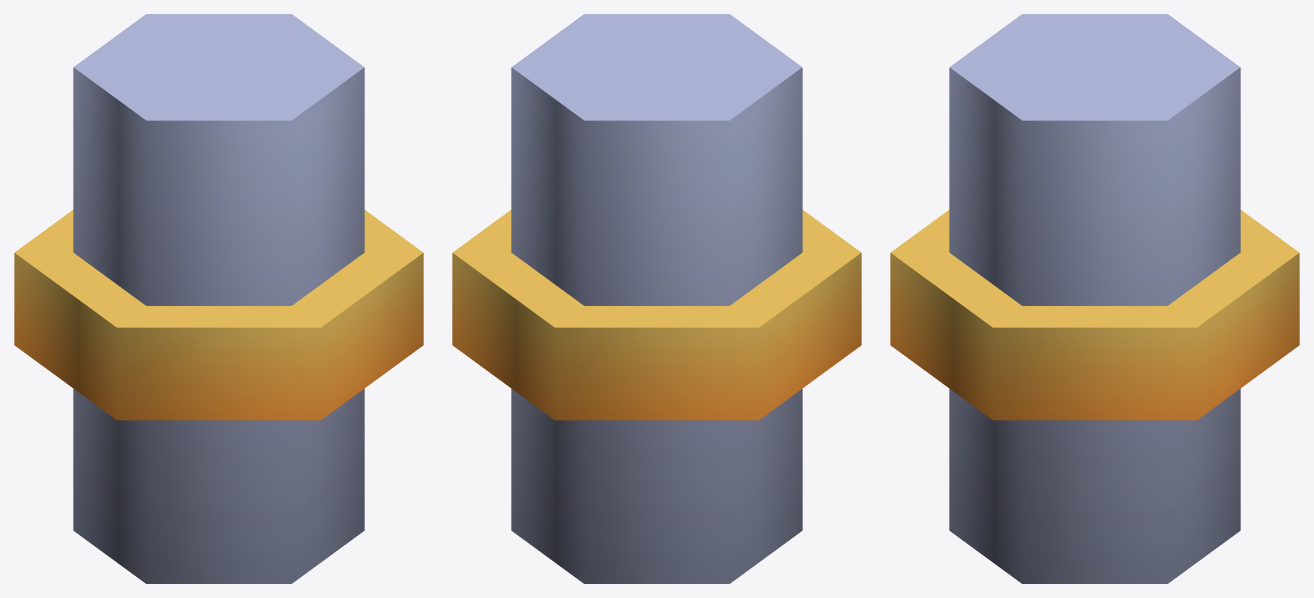
File: kenney-space-station-pipe-ring-colored.glb
3 views of the same model, side by side, from view 1: azimuth 30°, elevation 25°; view 2: azimuth 150°, elevation 25°; view 3: azimuth 270°, elevation 25° (orthographic).
Visible parts, largest first — view 1: pipe-ring-colored; view 2: pipe-ring-colored; view 3: pipe-ring-colored.
Part boxes in pixels (x1,y1,x2,y2): pipe-ring-colored: (14, 14, 423, 583); pipe-ring-colored: (452, 14, 861, 583); pipe-ring-colored: (890, 14, 1299, 583).
Size of the model in its own units: 0.3464 by 0.5 by 0.4.
Materials: 1 (1 with a texture image).
